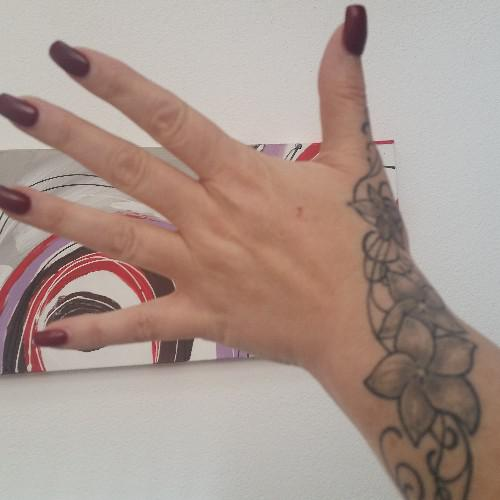paper: (1, 1, 426, 372)
